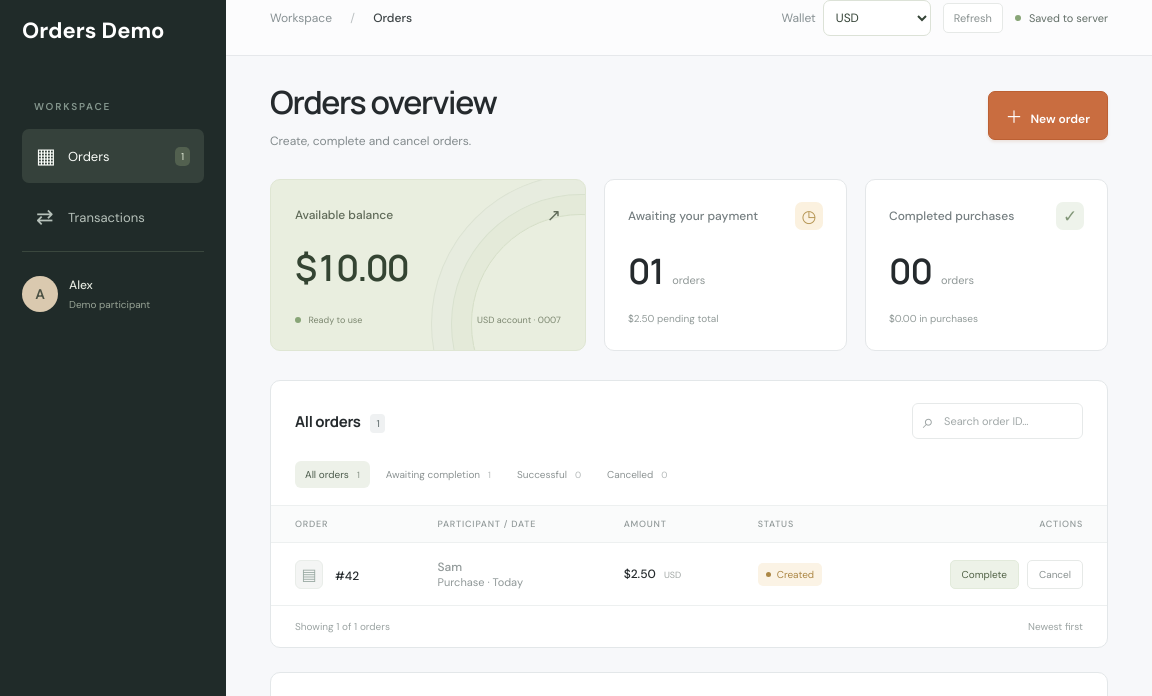
it: retains a successful payment when the subsequent journal refresh fails
Click the button "Complete".
click(984, 574)  # box [950,560,1019,589]
(page scrolled)
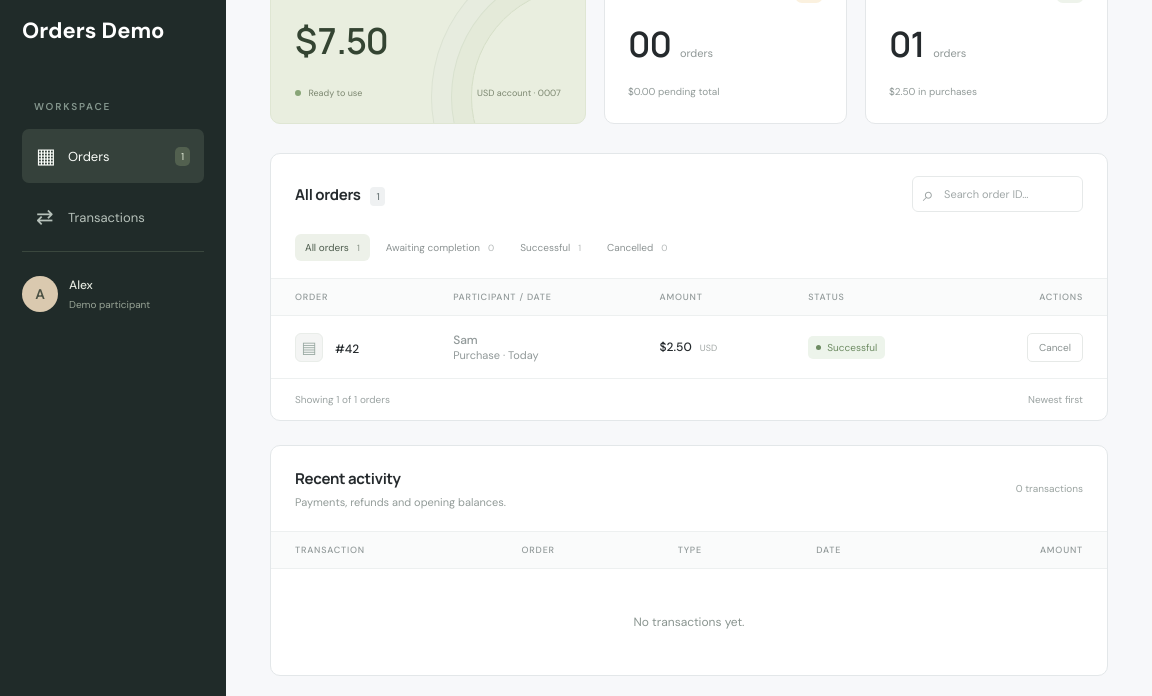
Check: the text named "Balance" shows "7.50", box [295,16,387,65]
Check: the row "#42" shows "successful", box [827,341,877,354]
